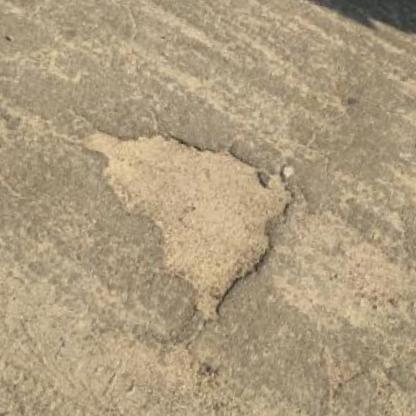pothole: (53, 114, 312, 334)
